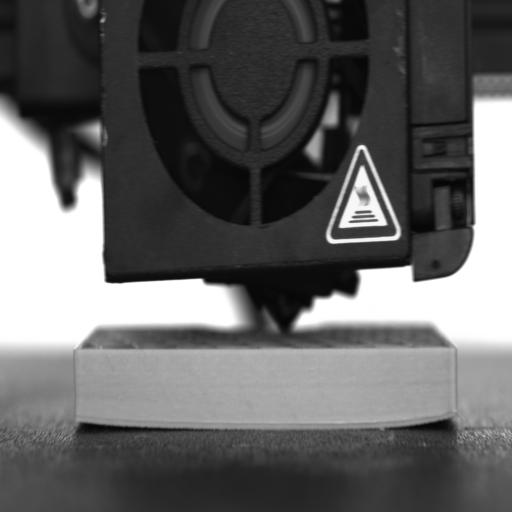warp: (66, 405, 136, 441), (403, 396, 463, 438)
